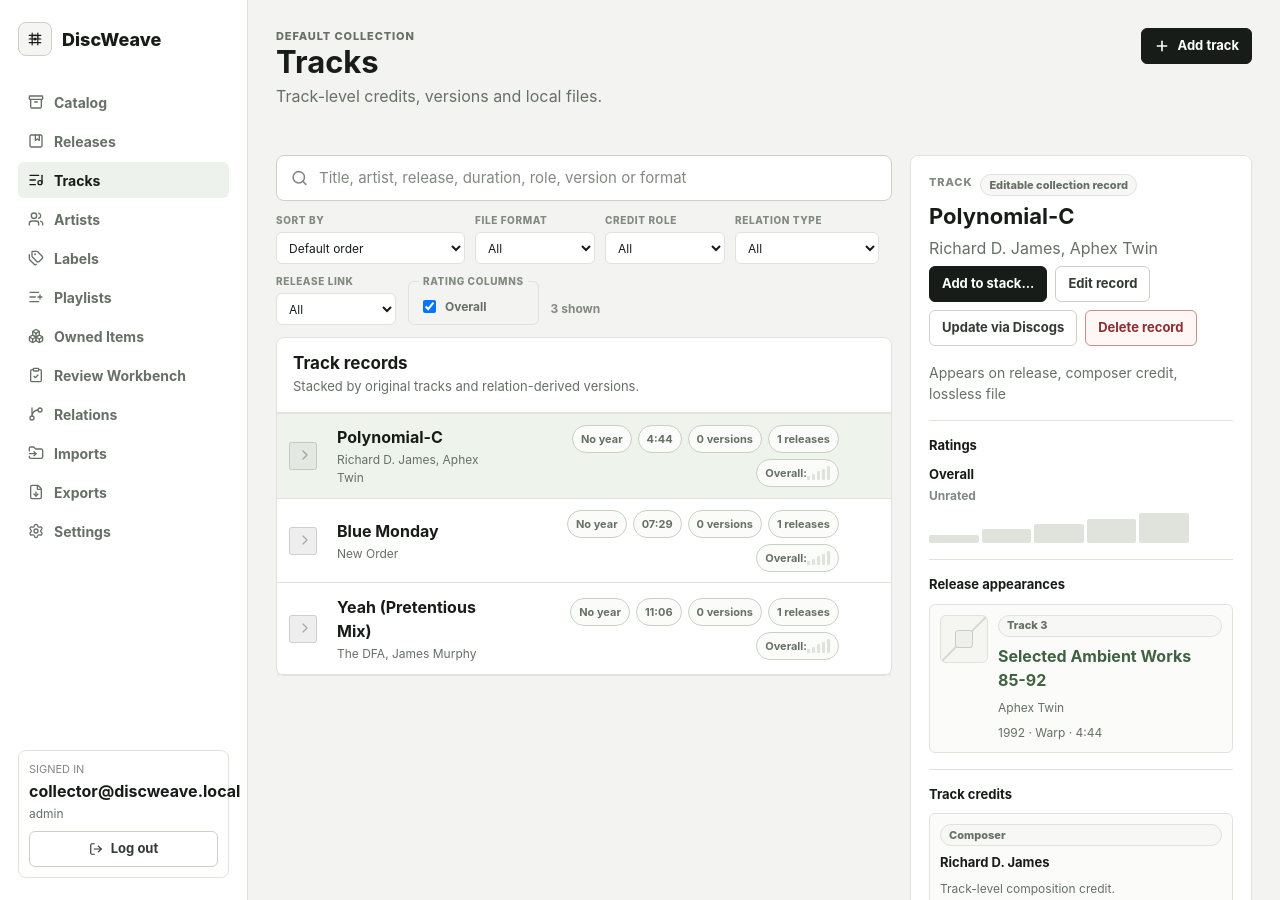
Test: App track and playlist workspaces › updates track detail when a track row is selected
This screenshot has width=1280, height=900.
Click the button "Blue Monday New Order": [421, 541] box [331,518,511,564]
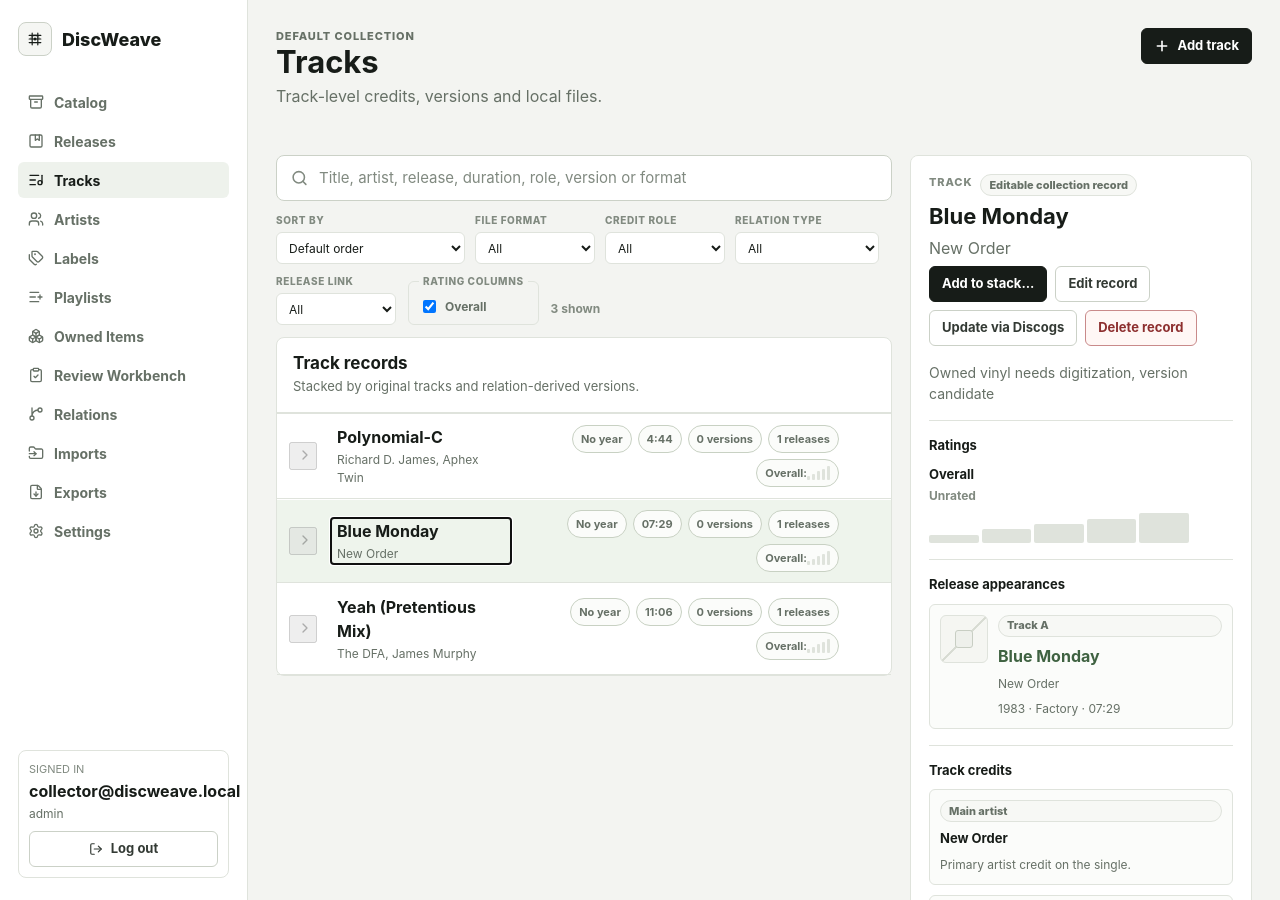
Check: the heading "Blue Monday" is shown, box [929,203,1069,229]
Check: the text "1983 · Factory · 07:29" is shown, box [998,701,1120,716]
